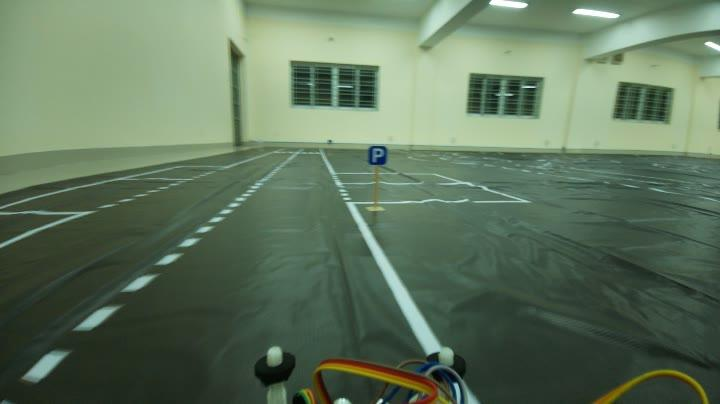parking: (361, 140, 394, 166)
